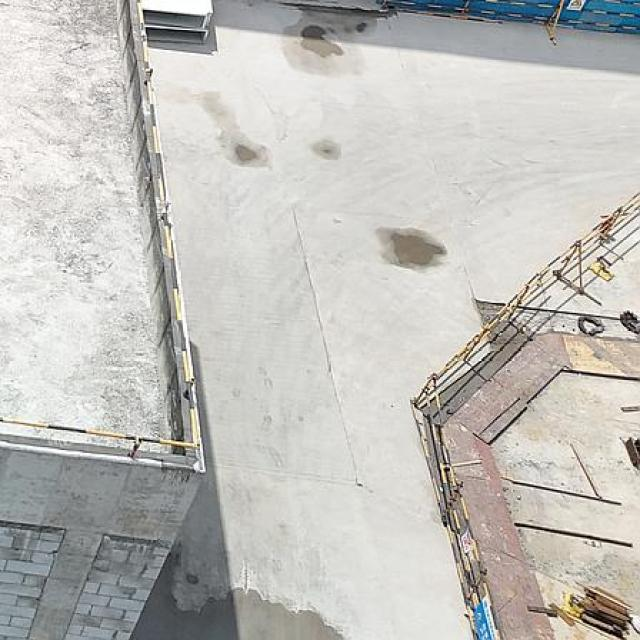edge_guardrail: (0, 0, 201, 458)
